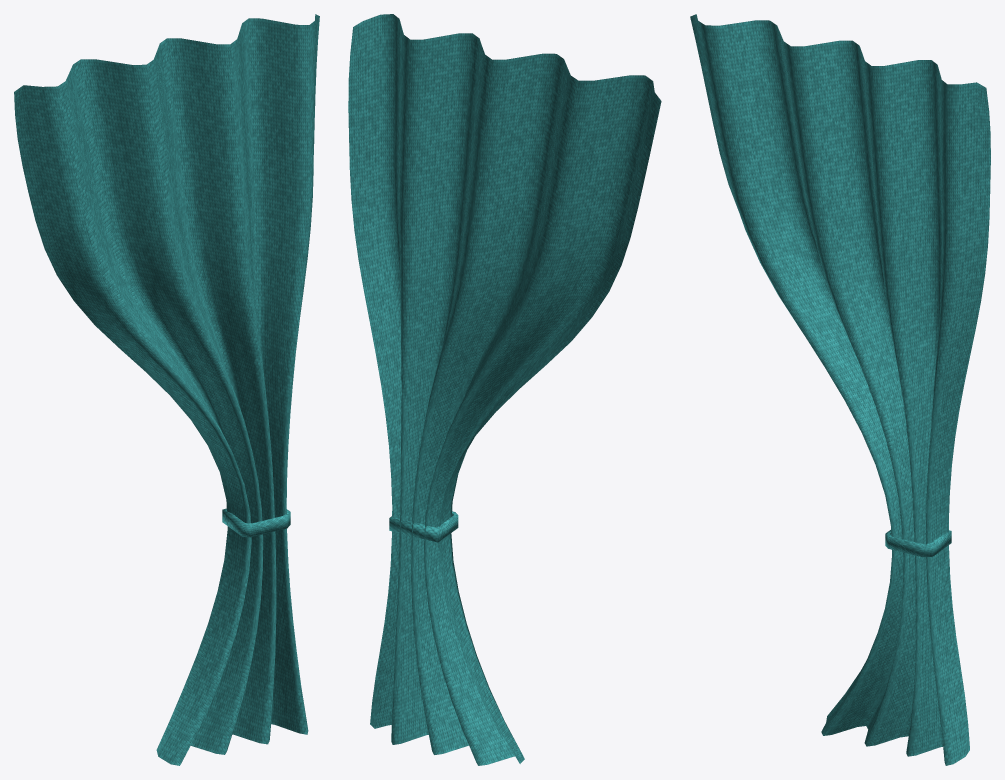
The model's file is Curtain.fbx.
3 views of the same model, side by side, from view 1: azimuth 30°, elevation 25°; view 2: azimuth 150°, elevation 25°; view 3: azimuth 330°, elevation 25° (orthographic). The views are drawn at different scales.
Visible parts, largest first — view 1: Cartain_Cloth, Cuartain_String; view 2: Cartain_Cloth, Cuartain_String; view 3: Cartain_Cloth, Cuartain_String.
Part boxes in pixels (x1,y1,x2,y2): Cartain_Cloth: (14, 14, 319, 765); Cuartain_String: (222, 508, 290, 537); Cartain_Cloth: (348, 14, 661, 765); Cuartain_String: (389, 511, 458, 542); Cartain_Cloth: (690, 14, 990, 765); Cuartain_String: (885, 530, 951, 557).
Size of the model in its own units: 90.78 by 200 by 11.98.
